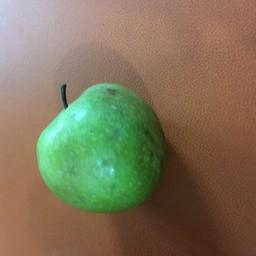Bad_apple: (33, 80, 167, 216)
